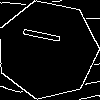I: (22, 24, 71, 48)
